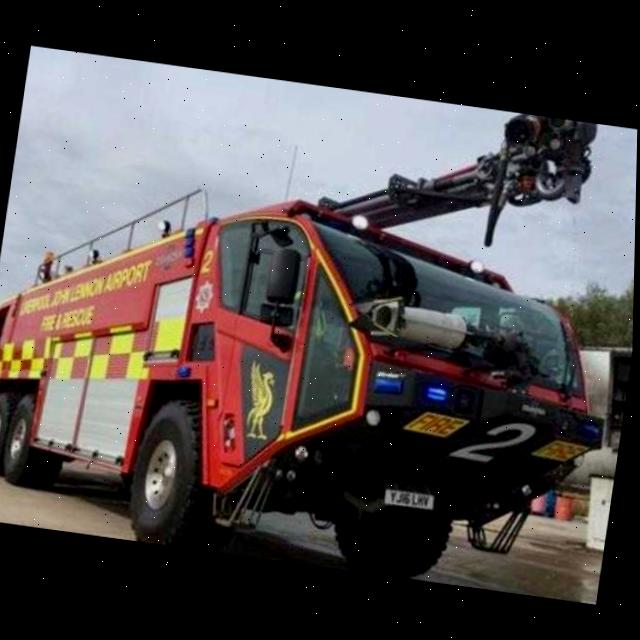emergency: (0, 44, 639, 600)
